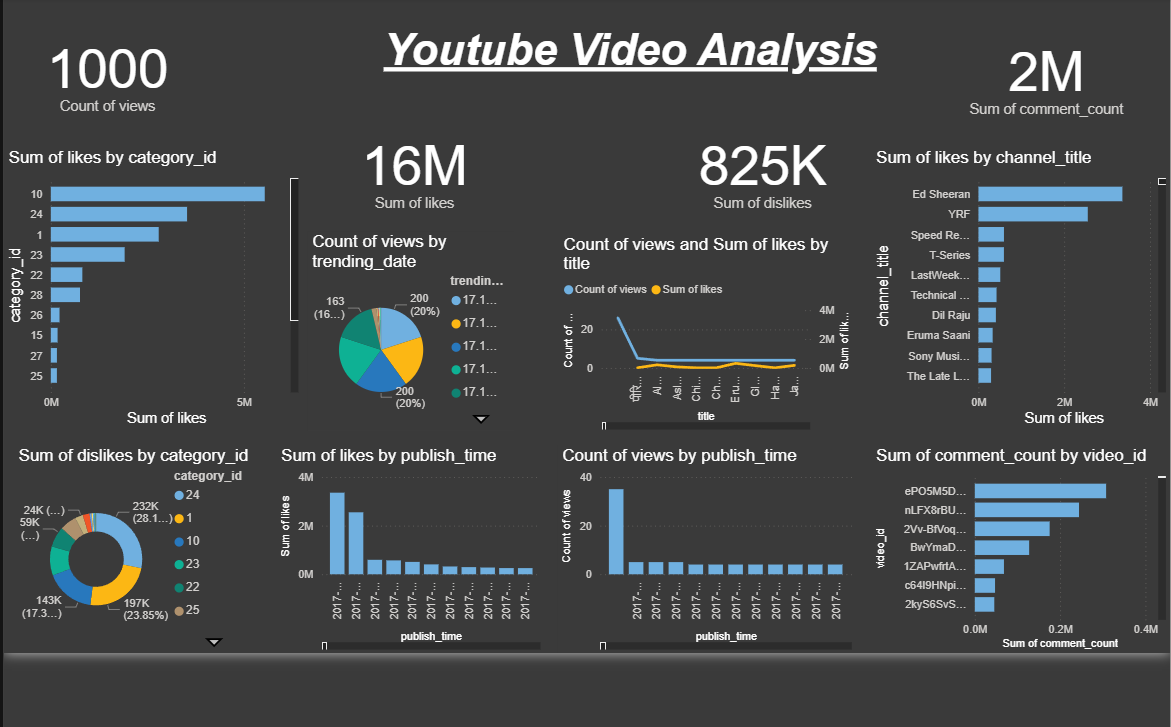

The dashboard page shown, as its layout file describes it:
{"tool":"powerbi","page":{"name":"Page 1","canvas":[1280,720],"ordinal":0},"visuals":[{"type":"barChart","fields":{"Category":["ind_csv_sql.category_id"],"Y":["ind_csv_sql.likes"]},"box":[0,164.7,328,310.1],"z":0},{"type":"clusteredBarChart","fields":{"Y":["ind_csv_sql.likes"],"Category":["ind_csv_sql.channel_title"]},"box":[952.3,164.7,328,310.1],"z":1},{"type":"donutChart","fields":{"Y":["ind_csv_sql.dislikes"],"Category":["ind_csv_sql.category_id"]},"box":[11,491.3,267.6,229.2],"z":2},{"type":"barChart","fields":{"Category":["ind_csv_sql.video_id"],"Y":["ind_csv_sql.comment_count"]},"box":[952.3,491.3,328,229.2],"z":4},{"type":"card","fields":{"Values":["ind_csv_sql.likes"]},"box":[341.7,138.6,218.2,98.8],"z":5},{"type":"card","fields":{"Values":["ind_csv_sql.dislikes"]},"box":[730,138.6,205.8,98.8],"z":6},{"type":"card","fields":{"Values":["ind_csv_sql.comment_count"]},"box":[1042.9,24.7,203.1,120.8],"z":7},{"type":"clusteredColumnChart","fields":{"Category":["ind_csv_sql.publish_time"],"Y":["ind_csv_sql.likes"]},"box":[299.1,491.3,295,229.2],"z":8},{"type":"columnChart","fields":{"Category":["ind_csv_sql.publish_time"],"Y":["ind_csv_sql.views"]},"box":[607.9,491.3,328,229.2],"z":9},{"type":"pieChart","fields":{"Category":["ind_csv_sql.trending_date"],"Y":["ind_csv_sql.views"]},"box":[333.4,256.6,226.4,218.2],"z":10},{"type":"lineChart","fields":{"Y":["ind_csv_sql.views"],"Y2":["ind_csv_sql.likes"],"Category":["ind_csv_sql.title"]},"box":[609.3,259.3,326.6,219.6],"z":11},{"type":"card","fields":{"Values":["ind_csv_sql.views"]},"box":[11,24.7,205.8,113.9],"z":12},{"type":"textbox","box":[411.7,24.7,618.9,102.9],"z":13}]}

Visuals, with their boxes on the page's 1280x720 design canvas (x1, y1, x2, y2). These are canvas units, not pixel positions in the 1171x727 screenshot, which may show the page scaled, cropped or inside an application window:
barChart - ind_csv_sql.category_id x ind_csv_sql.likes: [0, 165, 328, 475]
clusteredBarChart - ind_csv_sql.likes x ind_csv_sql.channel_title: [952, 165, 1280, 475]
donutChart - ind_csv_sql.dislikes x ind_csv_sql.category_id: [11, 491, 279, 720]
barChart - ind_csv_sql.video_id x ind_csv_sql.comment_count: [952, 491, 1280, 720]
card - ind_csv_sql.likes: [342, 139, 560, 237]
card - ind_csv_sql.dislikes: [730, 139, 936, 237]
card - ind_csv_sql.comment_count: [1043, 25, 1246, 146]
clusteredColumnChart - ind_csv_sql.publish_time x ind_csv_sql.likes: [299, 491, 594, 720]
columnChart - ind_csv_sql.publish_time x ind_csv_sql.views: [608, 491, 936, 720]
pieChart - ind_csv_sql.trending_date x ind_csv_sql.views: [333, 257, 560, 475]
lineChart - ind_csv_sql.views x ind_csv_sql.likes: [609, 259, 936, 479]
card - ind_csv_sql.views: [11, 25, 217, 139]
textbox: [412, 25, 1031, 128]
